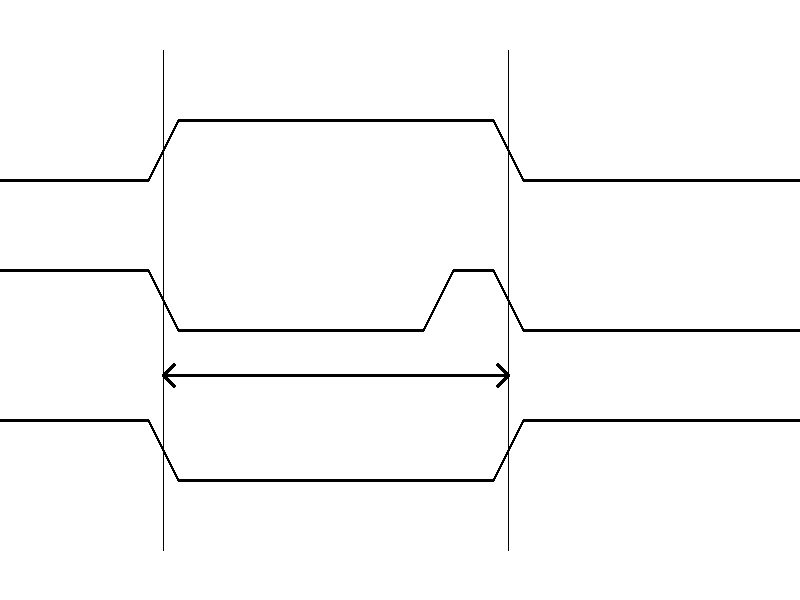double_arrow: (163, 360, 508, 390)
